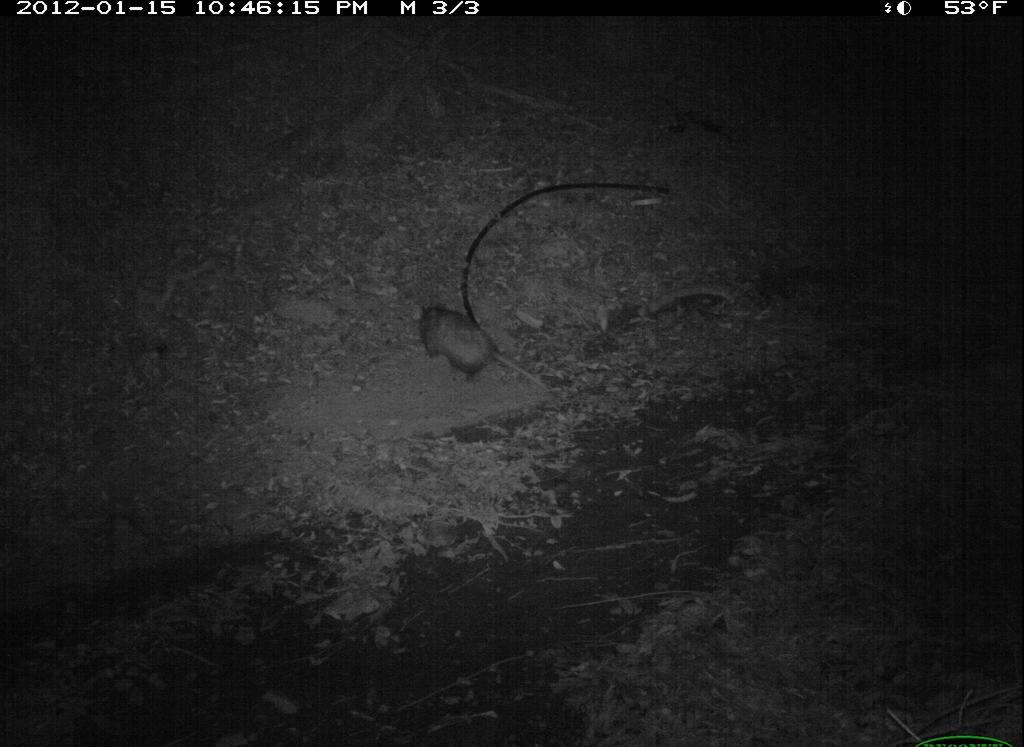opossum: (417, 297, 560, 405)
